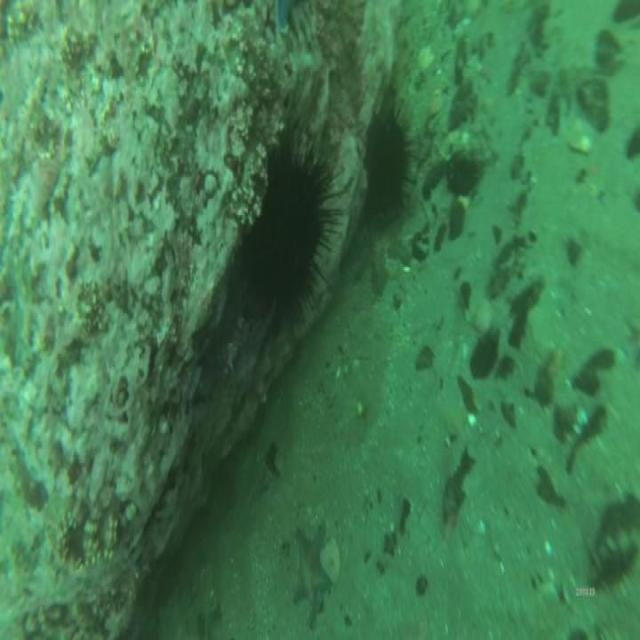echinus: (247, 158, 323, 299), (369, 122, 411, 213)
scallop: (570, 118, 594, 156)
starfish: (292, 531, 332, 627)
